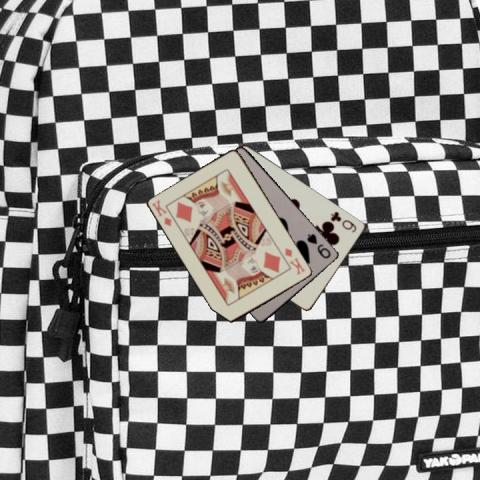6c: (328, 208, 358, 234)
9s: (304, 231, 333, 260)
Kd: (282, 244, 307, 276), (149, 197, 173, 228)
